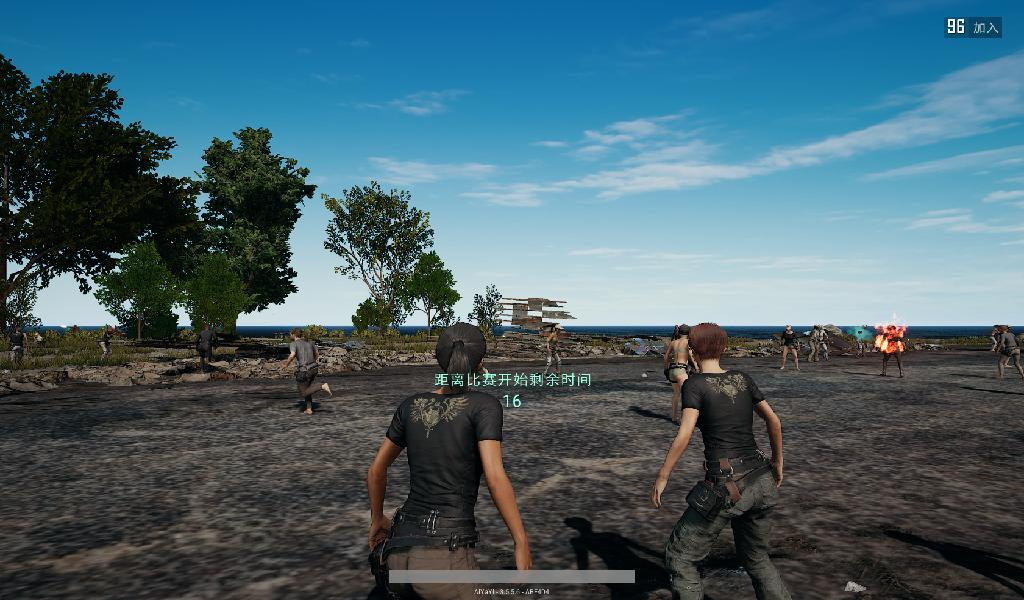Target Person: (370, 323, 532, 600), (651, 323, 794, 600), (279, 326, 333, 417), (996, 325, 1024, 381), (880, 325, 906, 381), (193, 325, 220, 378), (4, 325, 31, 377), (542, 323, 566, 379), (96, 323, 121, 368), (781, 323, 801, 372), (806, 322, 820, 365), (855, 323, 869, 362)
